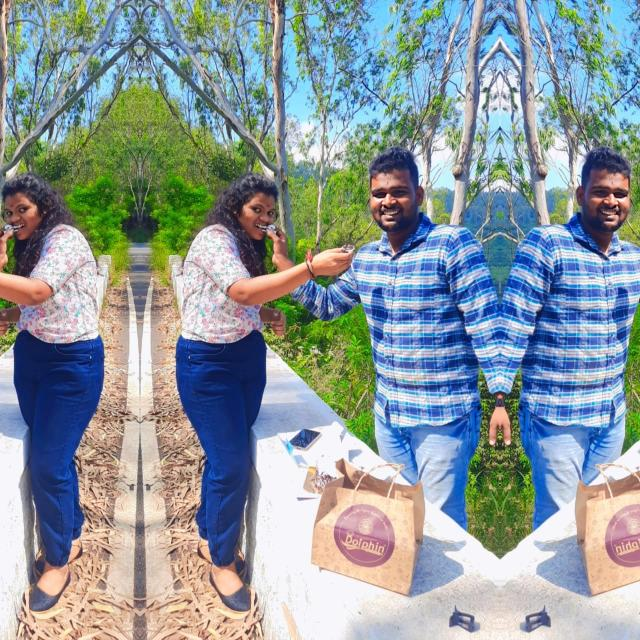person: (322, 146, 452, 492), (188, 179, 268, 593), (12, 179, 92, 593), (547, 146, 640, 492)
